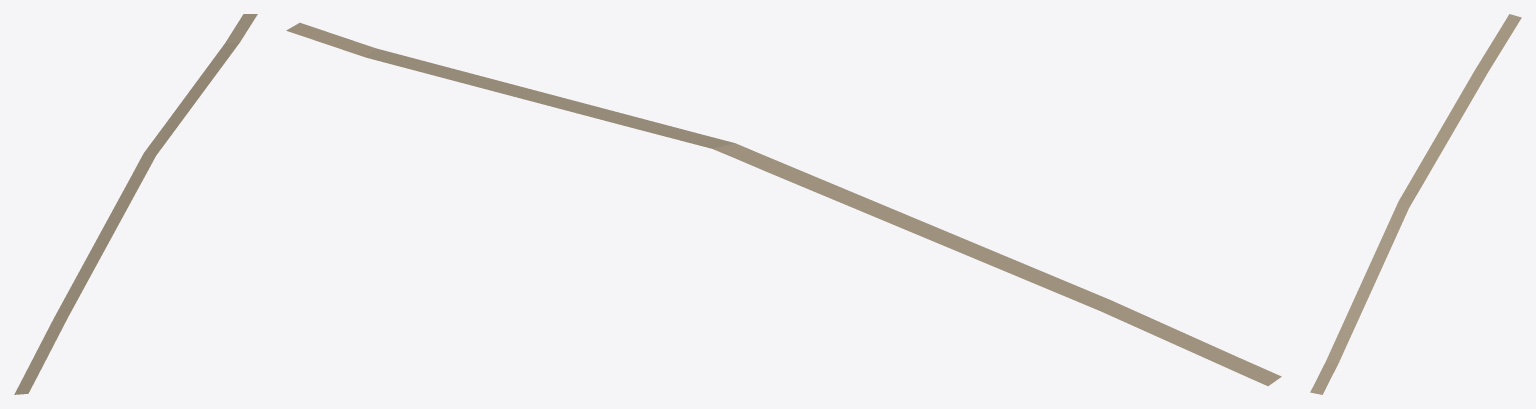
The model's file is farm_-47_-46_track.glb.
The picture shows the model from 3 angles, left to right: view 1: azimuth 90°, elevation 25°; view 2: azimuth 150°, elevation 25°; view 3: azimuth 270°, elevation 25°; orthographic projection. The views are drawn at different scales.
Visible parts, largest first — view 1: geometry_0; view 2: geometry_0; view 3: geometry_0.
Boxes of the visible parts, x1,y1,x2,y2 form: geometry_0: (14, 14, 257, 394); geometry_0: (286, 22, 1281, 385); geometry_0: (1310, 14, 1521, 394).
Bounding box in the file's own units: 215 × 9.91 × 54.08.
